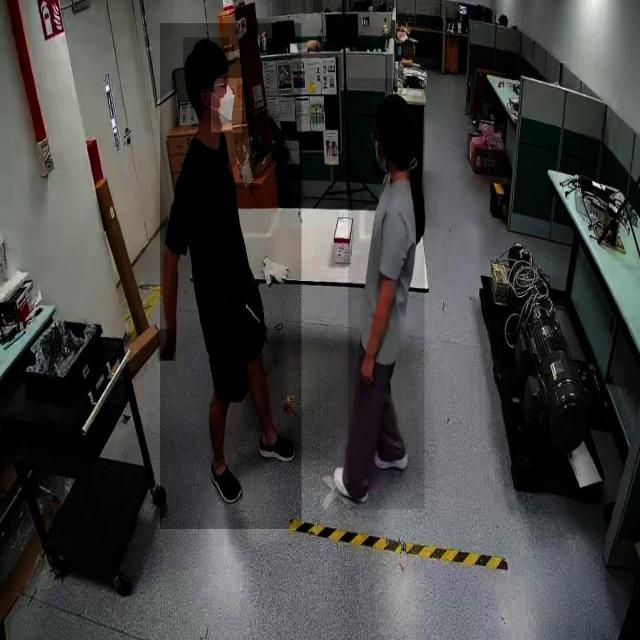face_mask: (211, 78, 242, 132), (373, 133, 389, 175)
hand_noglove: (158, 329, 176, 362), (360, 354, 376, 386)
head_nohelmet: (373, 91, 413, 129), (183, 38, 229, 70)
person: (160, 23, 302, 530), (348, 78, 425, 510)
shoes: (206, 454, 244, 509), (329, 464, 371, 504), (255, 427, 299, 464), (367, 440, 412, 470)
